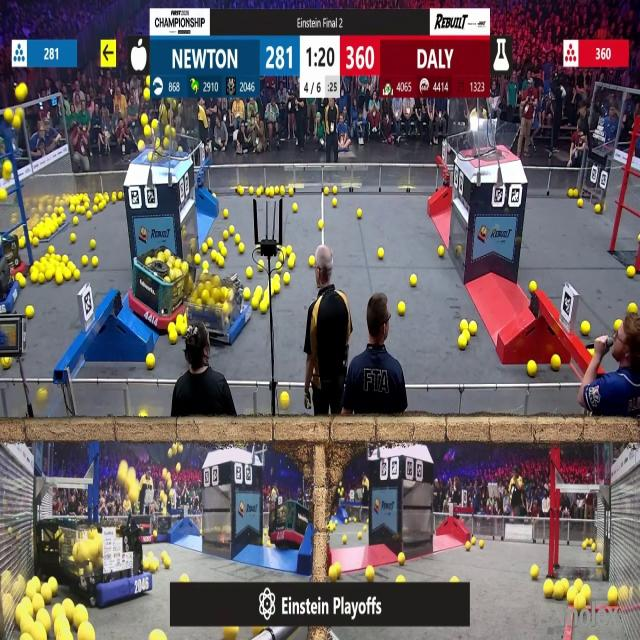ball_airborne: (15, 82, 26, 101), (117, 462, 127, 482), (130, 487, 140, 504), (2, 162, 12, 178), (128, 468, 136, 485), (11, 115, 20, 127), (4, 108, 12, 120), (0, 187, 6, 200), (144, 90, 150, 102), (138, 140, 144, 151), (142, 114, 148, 125), (144, 126, 150, 136), (165, 127, 171, 137), (164, 468, 170, 478), (162, 491, 167, 502), (151, 119, 157, 128), (145, 76, 150, 86), (165, 138, 170, 147), (176, 463, 181, 472), (155, 138, 160, 147), (171, 128, 176, 136), (168, 481, 173, 489), (178, 446, 183, 454), (169, 449, 173, 458), (148, 152, 152, 160), (170, 490, 174, 498), (178, 146, 182, 153)
ball_ground: (607, 589, 617, 607), (574, 593, 585, 608), (552, 354, 562, 370), (280, 392, 290, 408), (543, 582, 552, 599), (146, 353, 155, 369), (328, 566, 338, 580), (584, 586, 592, 603), (150, 630, 163, 640), (567, 587, 575, 603), (528, 360, 536, 375), (458, 336, 466, 351), (1, 356, 10, 369), (365, 566, 373, 580), (582, 321, 590, 335), (27, 306, 34, 320), (531, 565, 538, 579), (170, 332, 178, 344), (468, 322, 476, 334), (56, 274, 64, 286), (178, 322, 186, 334), (150, 560, 158, 572), (259, 302, 266, 315), (629, 304, 638, 314), (628, 267, 635, 279), (165, 557, 172, 569), (397, 554, 404, 566), (397, 304, 404, 316), (274, 282, 281, 294), (460, 319, 467, 331), (142, 559, 149, 571), (64, 271, 72, 281), (44, 272, 52, 282), (283, 274, 290, 285), (411, 275, 418, 286), (31, 273, 38, 284), (308, 257, 314, 269), (252, 299, 258, 311), (81, 256, 88, 266), (193, 254, 200, 264), (596, 555, 603, 565), (244, 289, 251, 299), (170, 323, 177, 333), (18, 238, 25, 248), (379, 248, 385, 259), (93, 256, 99, 267), (530, 281, 536, 292), (246, 268, 252, 279), (212, 250, 218, 261), (451, 575, 459, 583), (180, 574, 188, 582), (273, 275, 281, 283), (595, 205, 602, 214), (396, 575, 405, 582), (572, 188, 579, 197), (74, 271, 80, 281), (218, 256, 224, 266), (70, 234, 76, 244), (288, 260, 294, 270), (18, 278, 24, 288), (239, 244, 245, 254), (616, 320, 622, 330), (202, 244, 208, 254), (318, 219, 324, 229), (38, 274, 44, 284), (68, 263, 74, 273), (220, 248, 227, 256), (203, 262, 210, 270), (222, 209, 228, 218), (222, 232, 228, 241), (100, 202, 106, 211), (255, 286, 261, 295), (228, 225, 234, 234), (292, 204, 298, 213), (92, 240, 97, 250), (440, 247, 445, 257), (357, 208, 362, 218), (111, 191, 116, 201), (83, 202, 88, 212), (62, 255, 69, 262), (218, 241, 224, 249), (117, 191, 123, 199), (286, 246, 292, 254), (267, 188, 273, 196), (238, 187, 244, 195), (76, 206, 82, 214), (236, 235, 241, 244), (73, 216, 78, 225), (86, 211, 91, 220), (249, 186, 254, 195), (280, 186, 285, 195), (276, 263, 282, 270), (331, 186, 337, 193), (57, 254, 63, 261), (465, 541, 470, 549), (577, 200, 582, 208), (331, 200, 336, 208), (568, 188, 573, 196), (257, 265, 262, 273), (324, 187, 329, 195), (344, 538, 349, 546), (279, 253, 284, 261), (265, 289, 270, 296), (208, 240, 212, 248), (48, 246, 52, 254), (481, 539, 485, 547), (471, 536, 475, 544), (34, 239, 38, 247), (256, 188, 260, 196), (163, 552, 167, 560), (16, 274, 20, 282), (258, 259, 263, 265), (358, 535, 362, 542), (289, 188, 293, 195), (268, 540, 272, 547), (592, 543, 596, 550), (636, 236, 640, 243), (591, 636, 597, 640)
goal: (464, 121, 522, 160)
robot_blue: (81, 522, 153, 607), (188, 272, 250, 348), (0, 259, 19, 315), (150, 514, 177, 543)
robot_red: (130, 248, 190, 329), (268, 505, 306, 544)
